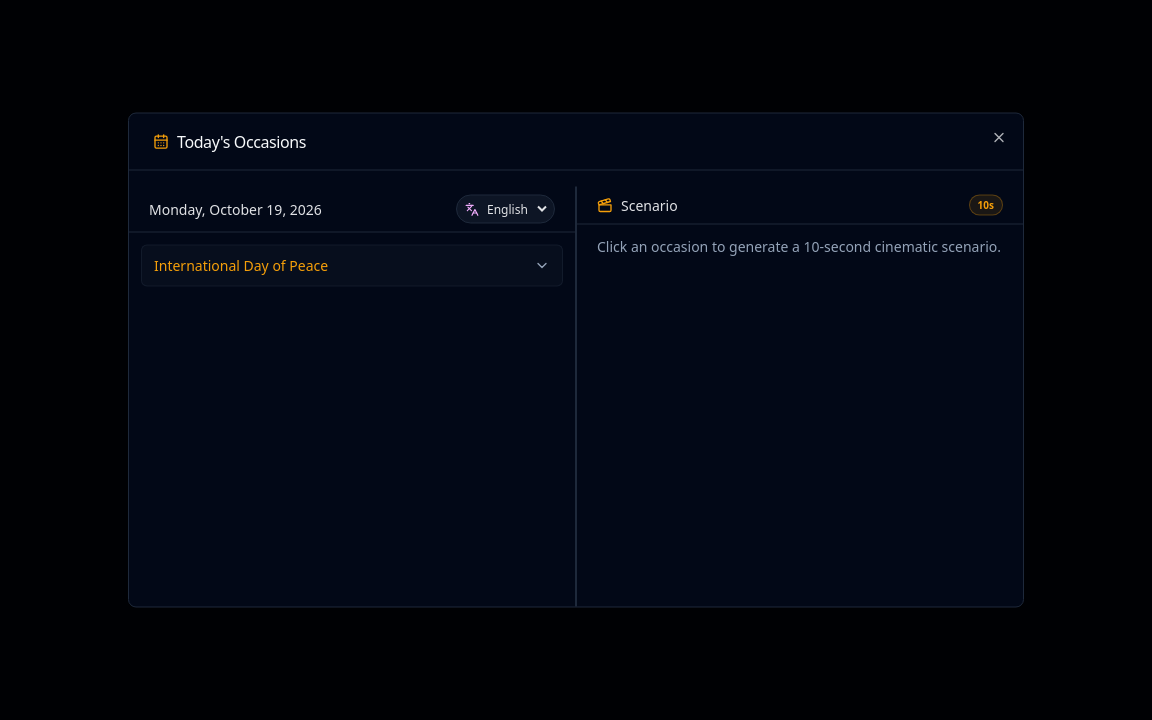
Test: CalendarInfoDialog translation › returns instantly to original English without another translation call
The image size is (1152, 720).
Click the button "International Day of Peace" at [241, 265], box [142,246,562,286]
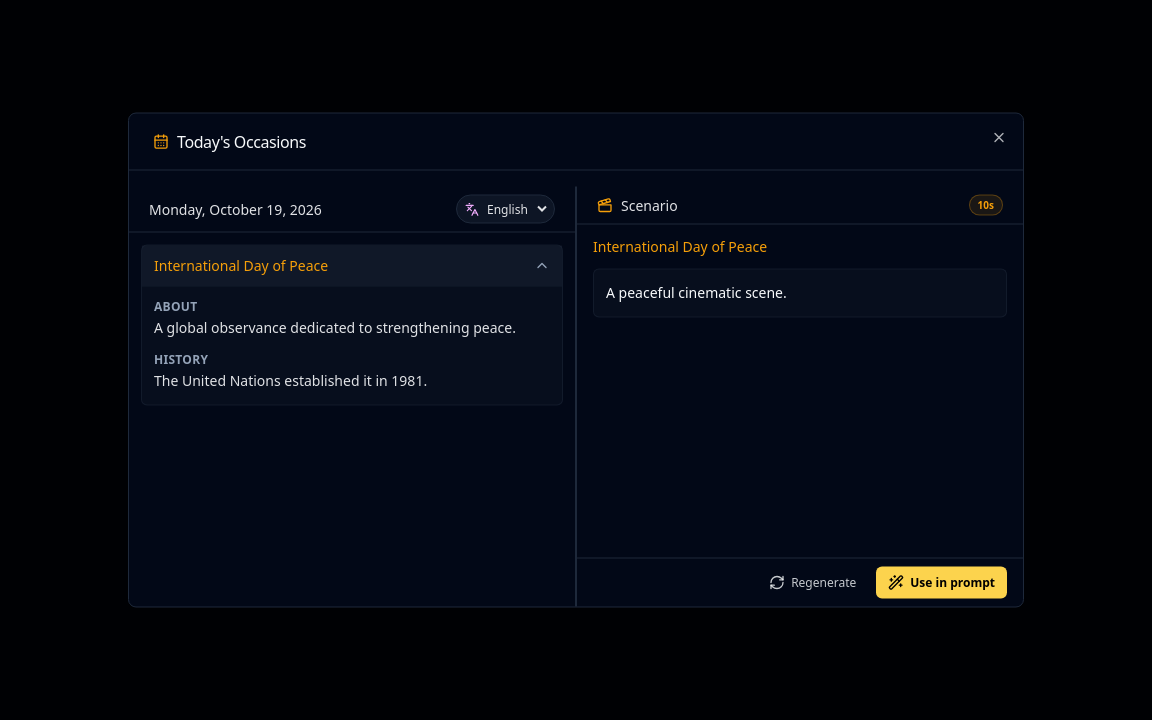
Now the text "A global observance dedicated to strengthening peace." is shown, box [154,316,550,339]
Select "فارسی" in the dropdown named "Translate occasion details" at [516, 209], box [483,198,550,220]
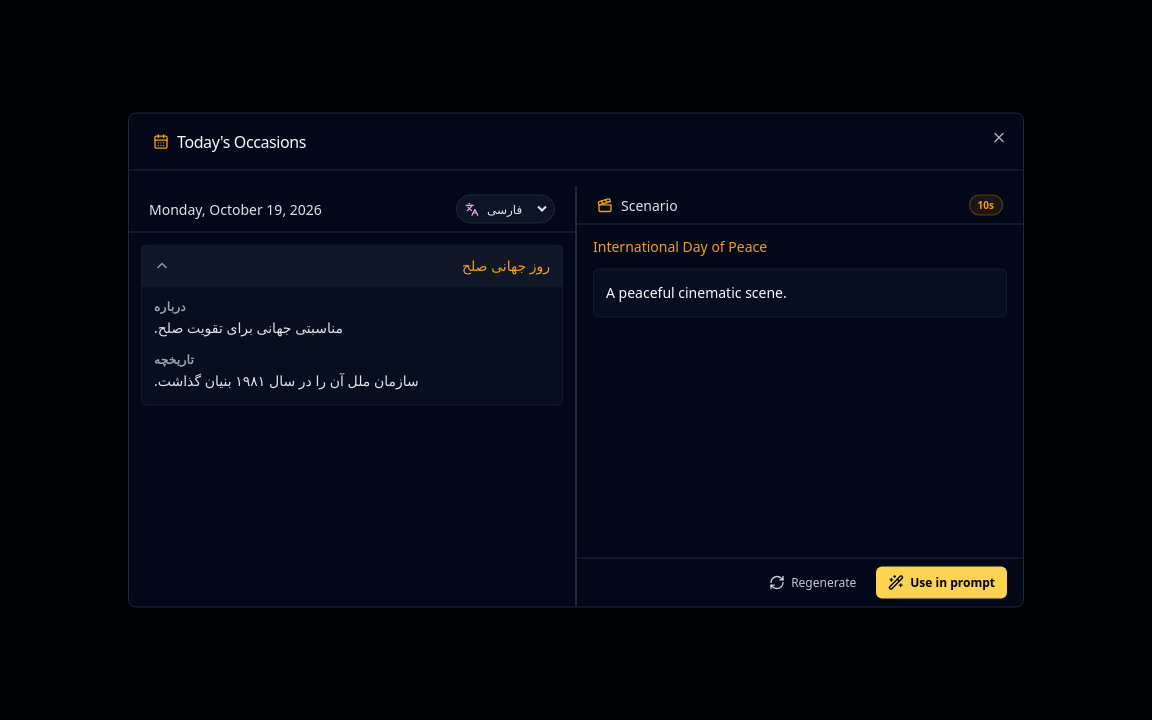
Now the text "روز جهانی صلح" is shown, box [462,256,550,276]
Select "English" in the dropdown named "Translate occasion details" at [516, 209], box [483,198,550,220]
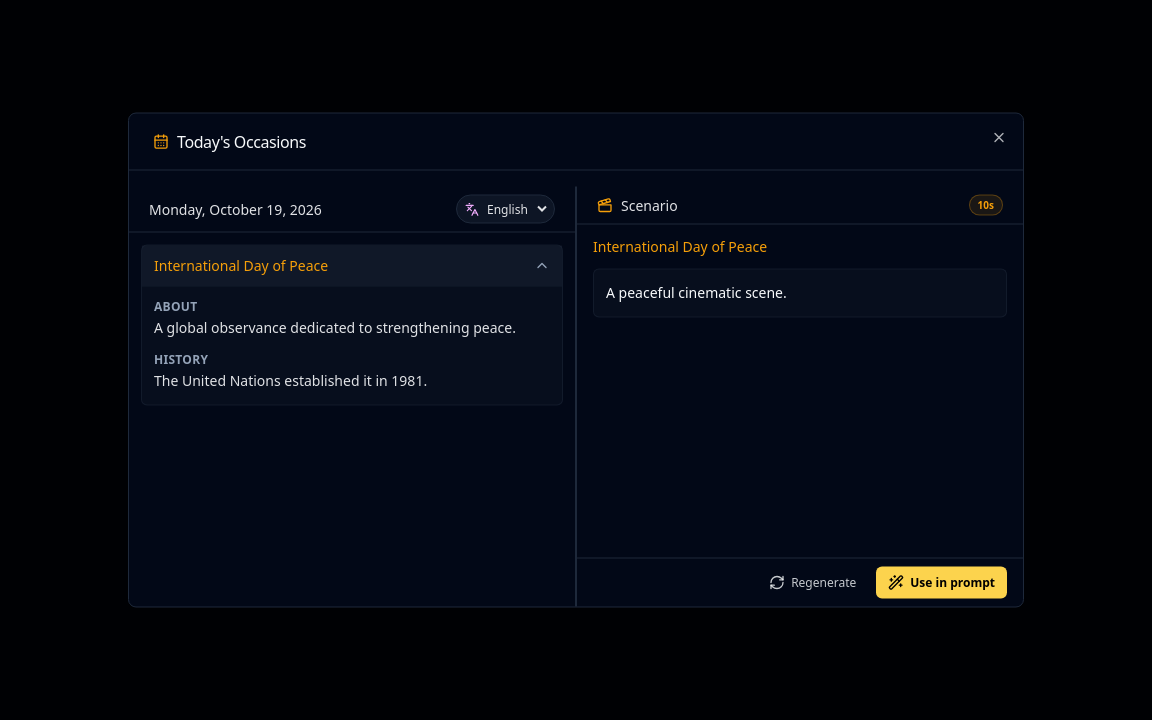
Now the text "International Day of Peace" below "Monday, October 19, 2026" is shown, box [154,256,328,274]
Now the text "About" is shown, box [154,298,197,314]
Now the text "A global observance dedicated to strengthening peace." is shown, box [154,316,550,339]
